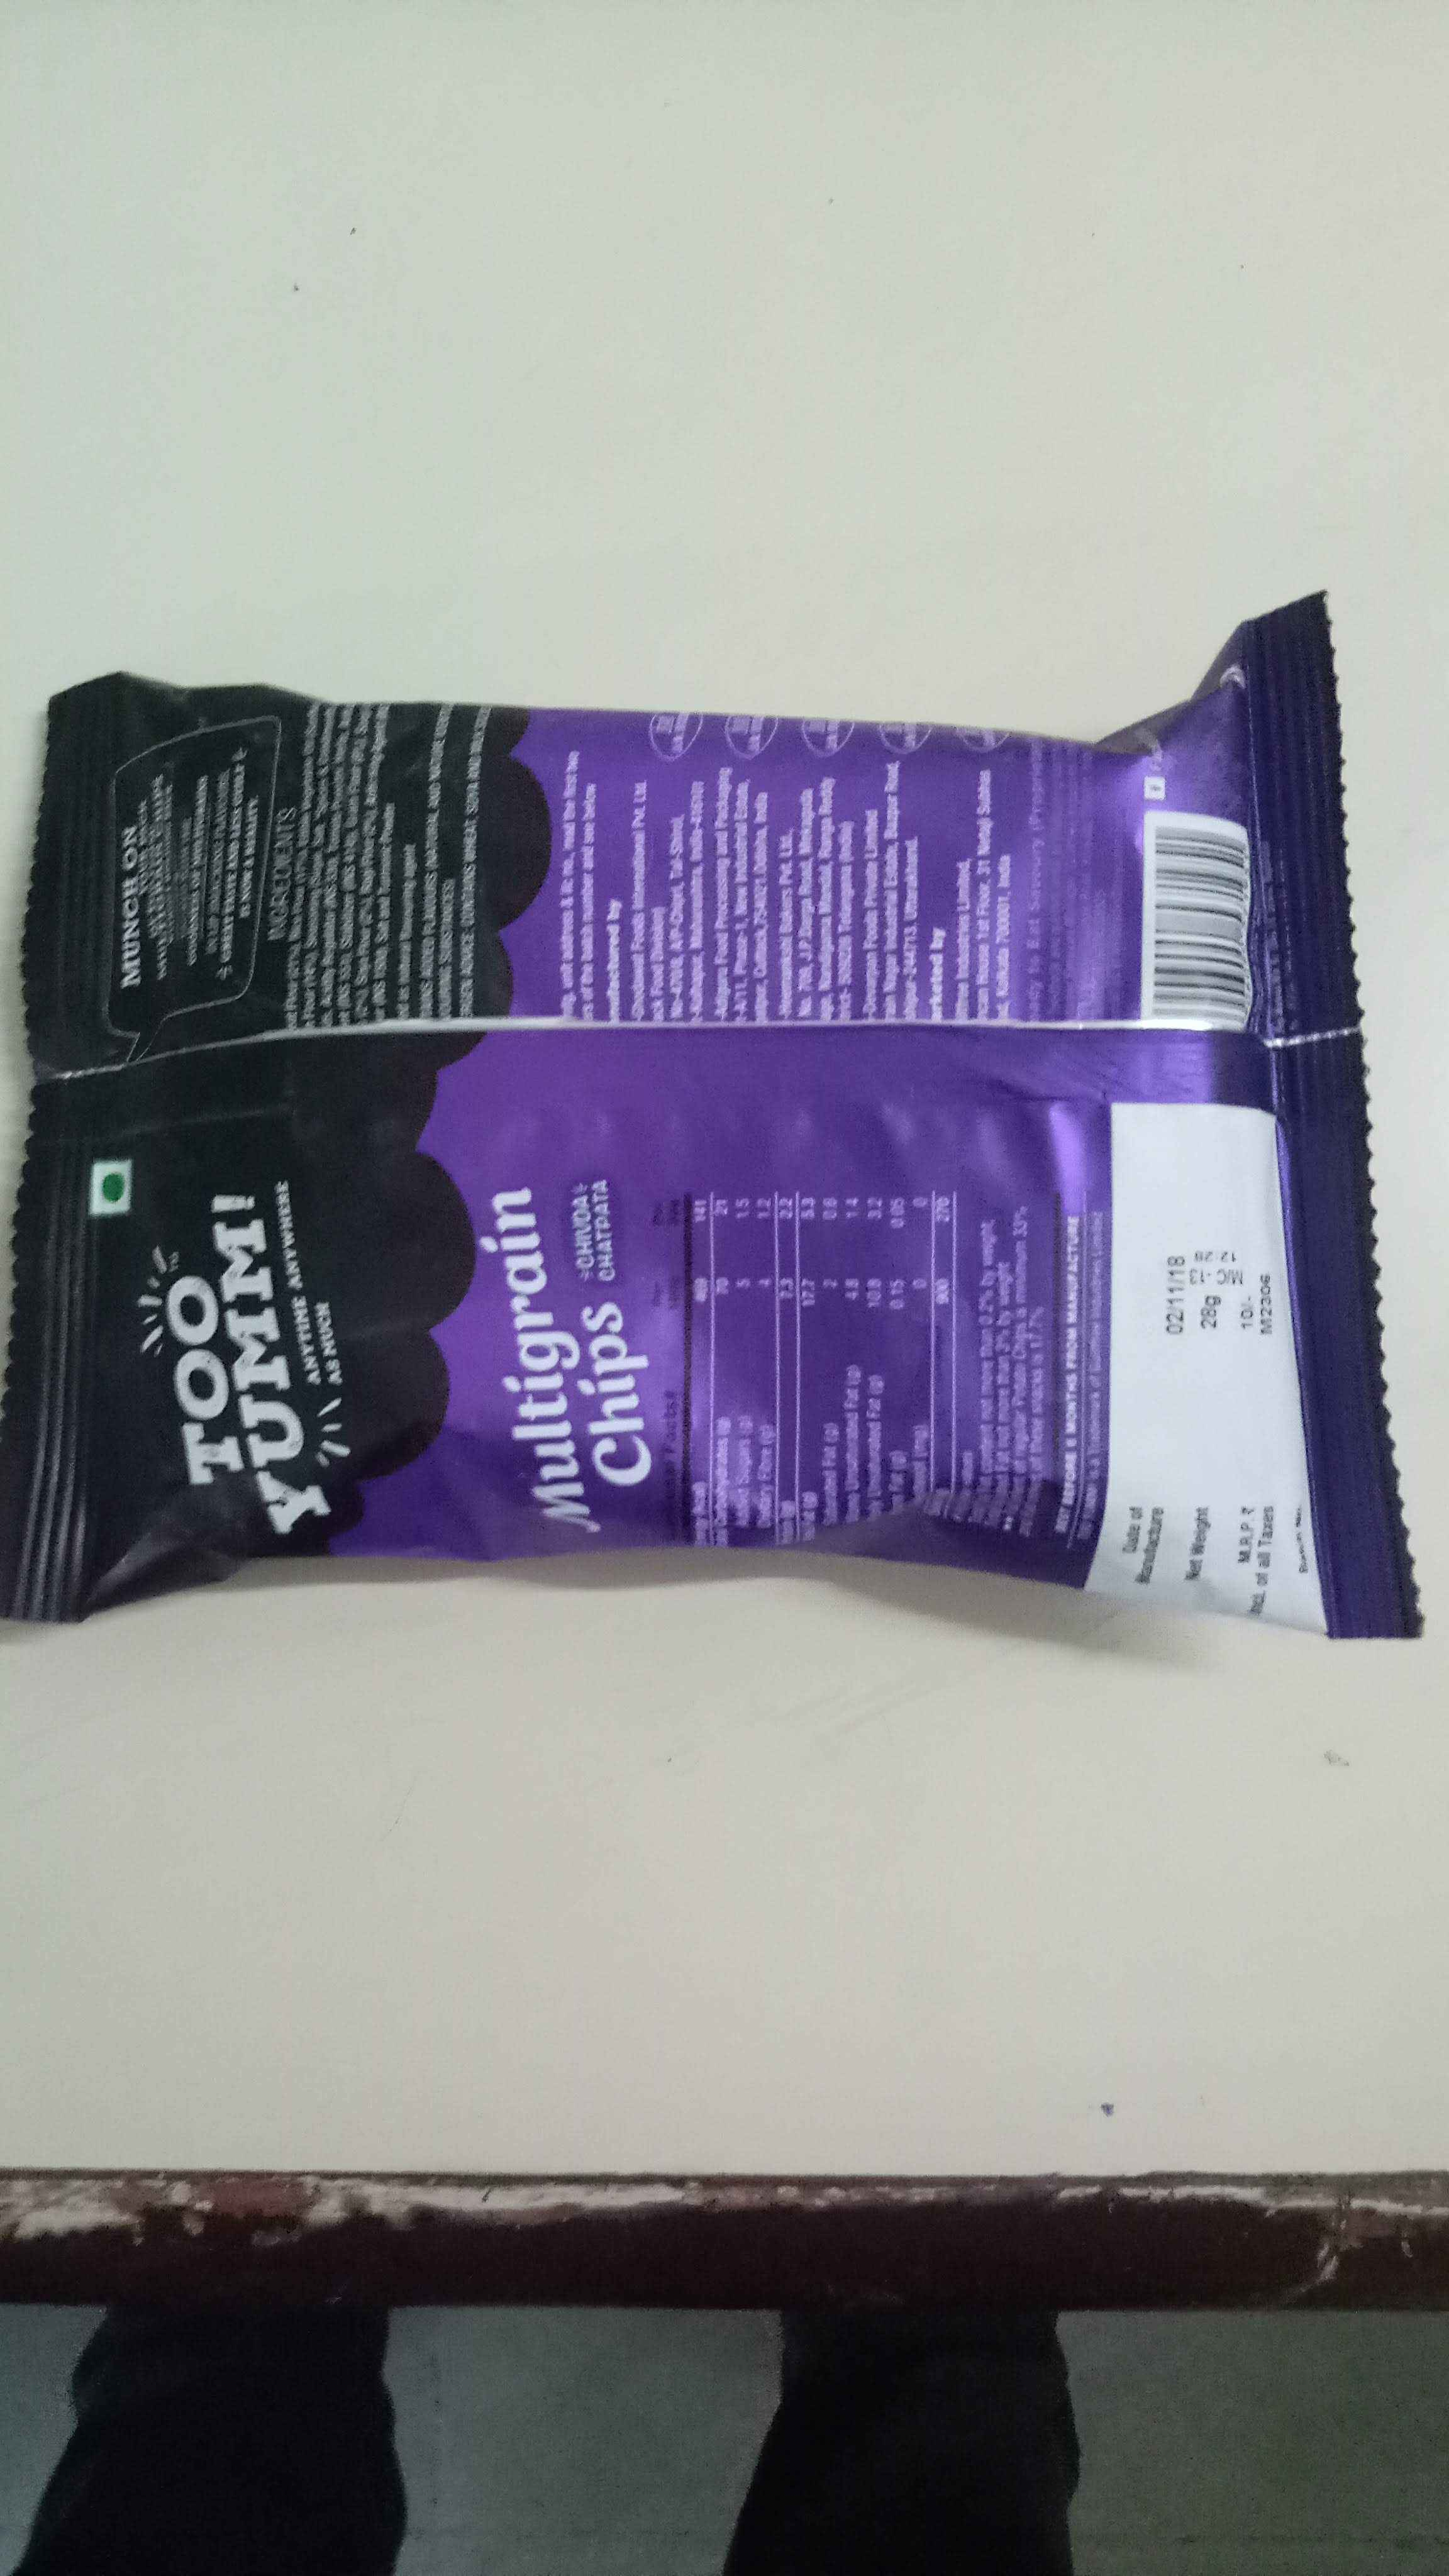tooyumm: (122, 1177, 343, 1553)
